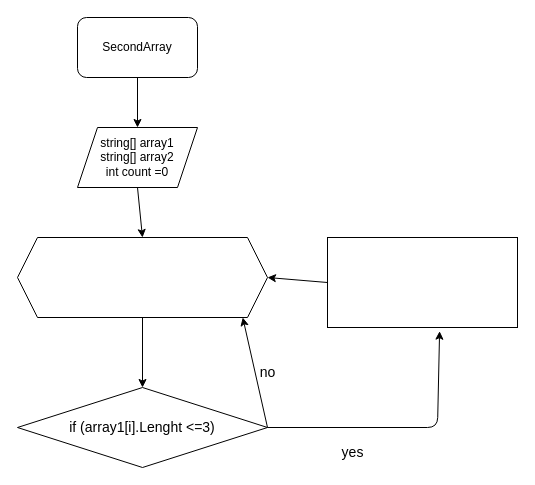
This 535x485 diagram has some shape labels left out. Each missing label, with the centre of its shape:
array2[count] = array1[i] count++;: (422,282)
for (int i=0; i < array1.Lenght; i++): (142,277)
